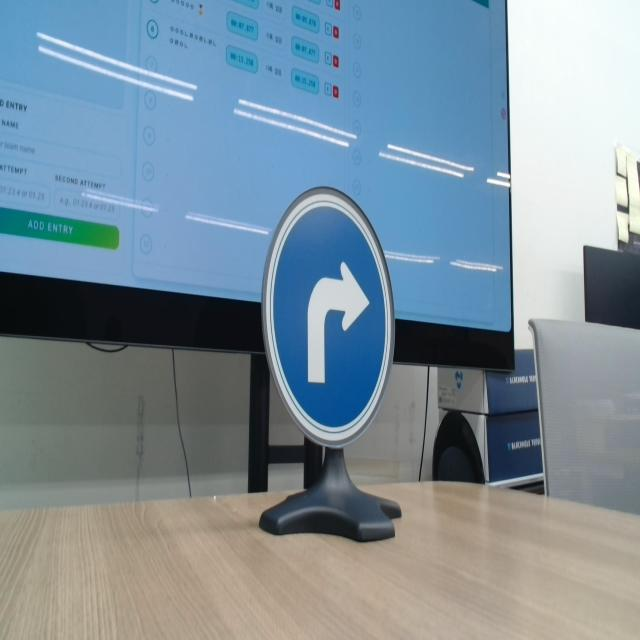right_dierection: (256, 174, 415, 461)
